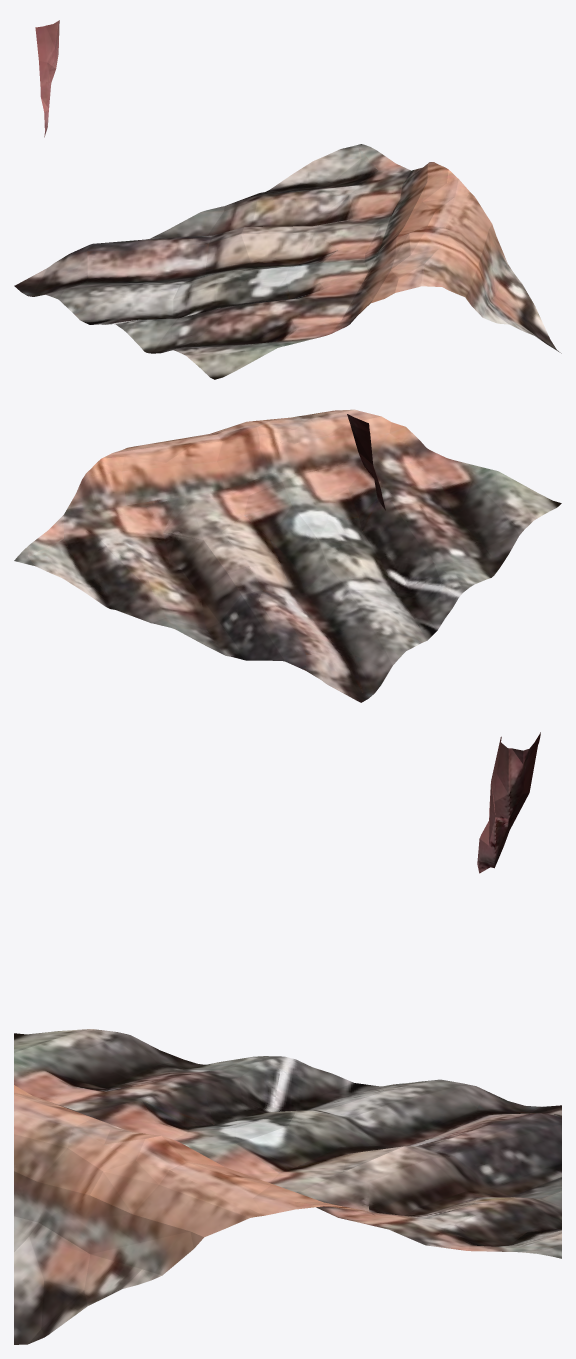
3 views of the same model, one above another, from view 1: azimuth 30°, elevation 25°; view 2: azimuth 150°, elevation 25°; view 3: azimuth 270°, elevation 25° (orthographic). The views are drawn at different scales.
Size of the model in its own units: 0.8374 by 0.6447 by 0.8374.
3 materials, 3 textured.
